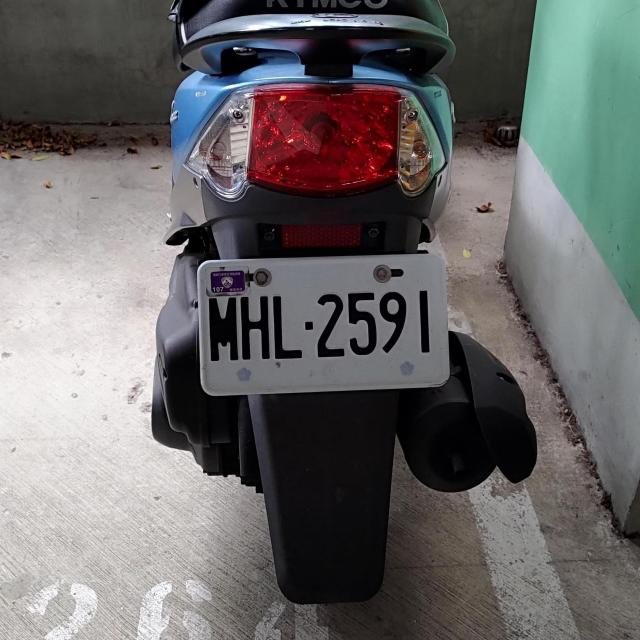W: (195, 250, 447, 396)
